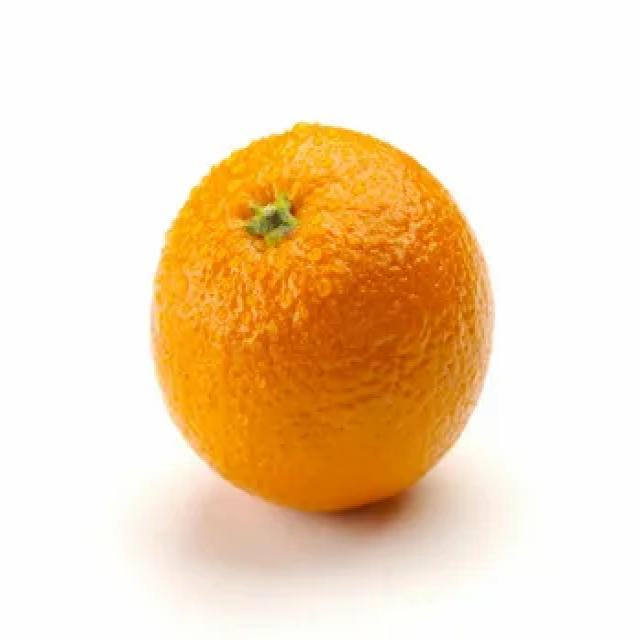orange: (143, 109, 501, 529)
